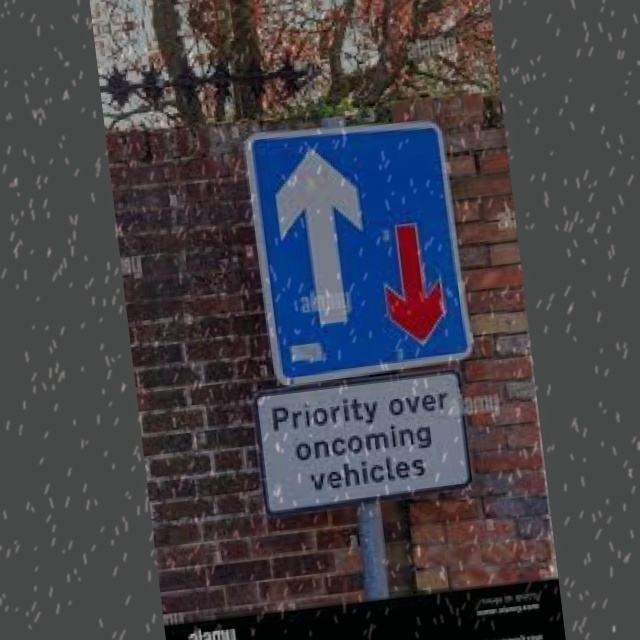Priority_for_Oncoming_Traffic: (254, 119, 470, 377)
